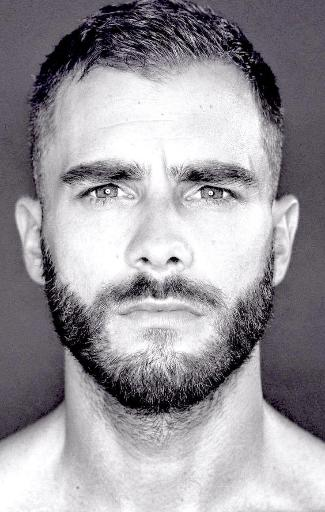left_eye: (182, 185, 247, 214)
left_lip_corner: (190, 304, 213, 326)
right_eye: (70, 181, 135, 210)
right_lip_corner: (117, 304, 135, 322)
